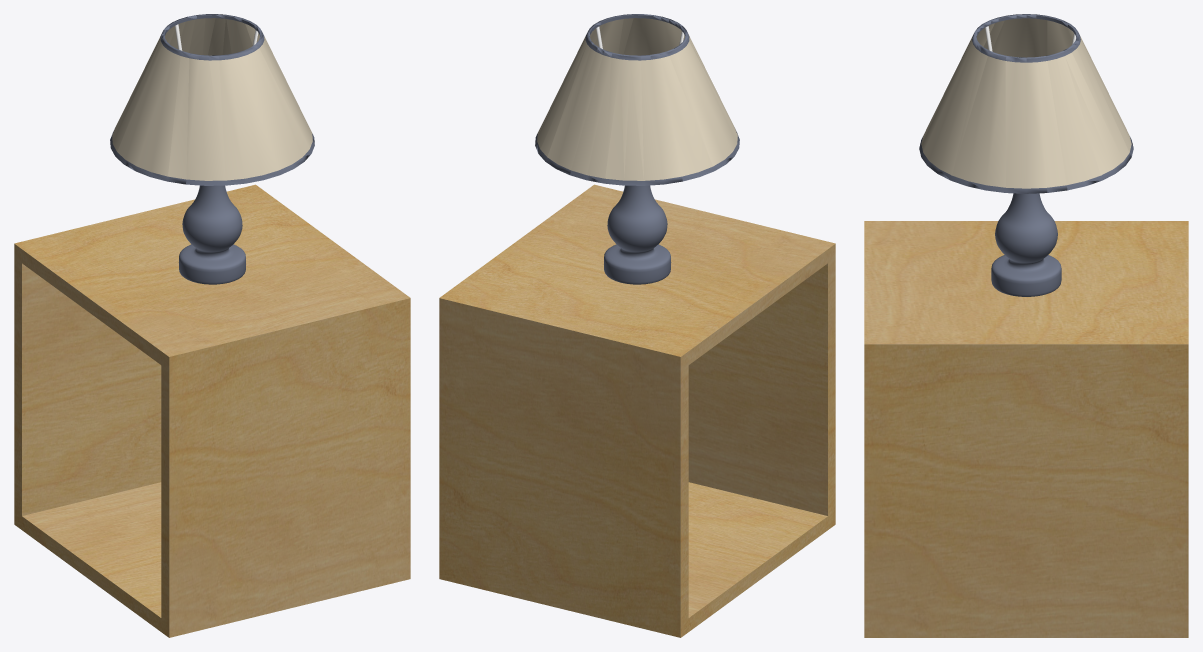
Rendered from estanteria_cubo_lampara.glb.
The picture shows the model from 3 angles, left to right: view 1: azimuth 30°, elevation 25°; view 2: azimuth 150°, elevation 25°; view 3: azimuth 270°, elevation 25°; orthographic projection. The views are drawn at different scales.
Parts seen in each view (by area): view 1: estanteria_cubo_lampara; view 2: estanteria_cubo_lampara; view 3: estanteria_cubo_lampara.
Part boxes in pixels (bbox=[...]): estanteria_cubo_lampara: bbox=[14, 14, 410, 637]; estanteria_cubo_lampara: bbox=[439, 14, 835, 637]; estanteria_cubo_lampara: bbox=[864, 14, 1188, 637].
Size of the model in its own units: 45 by 91.9 by 50.
Materials: 6 (1 with a texture image).
